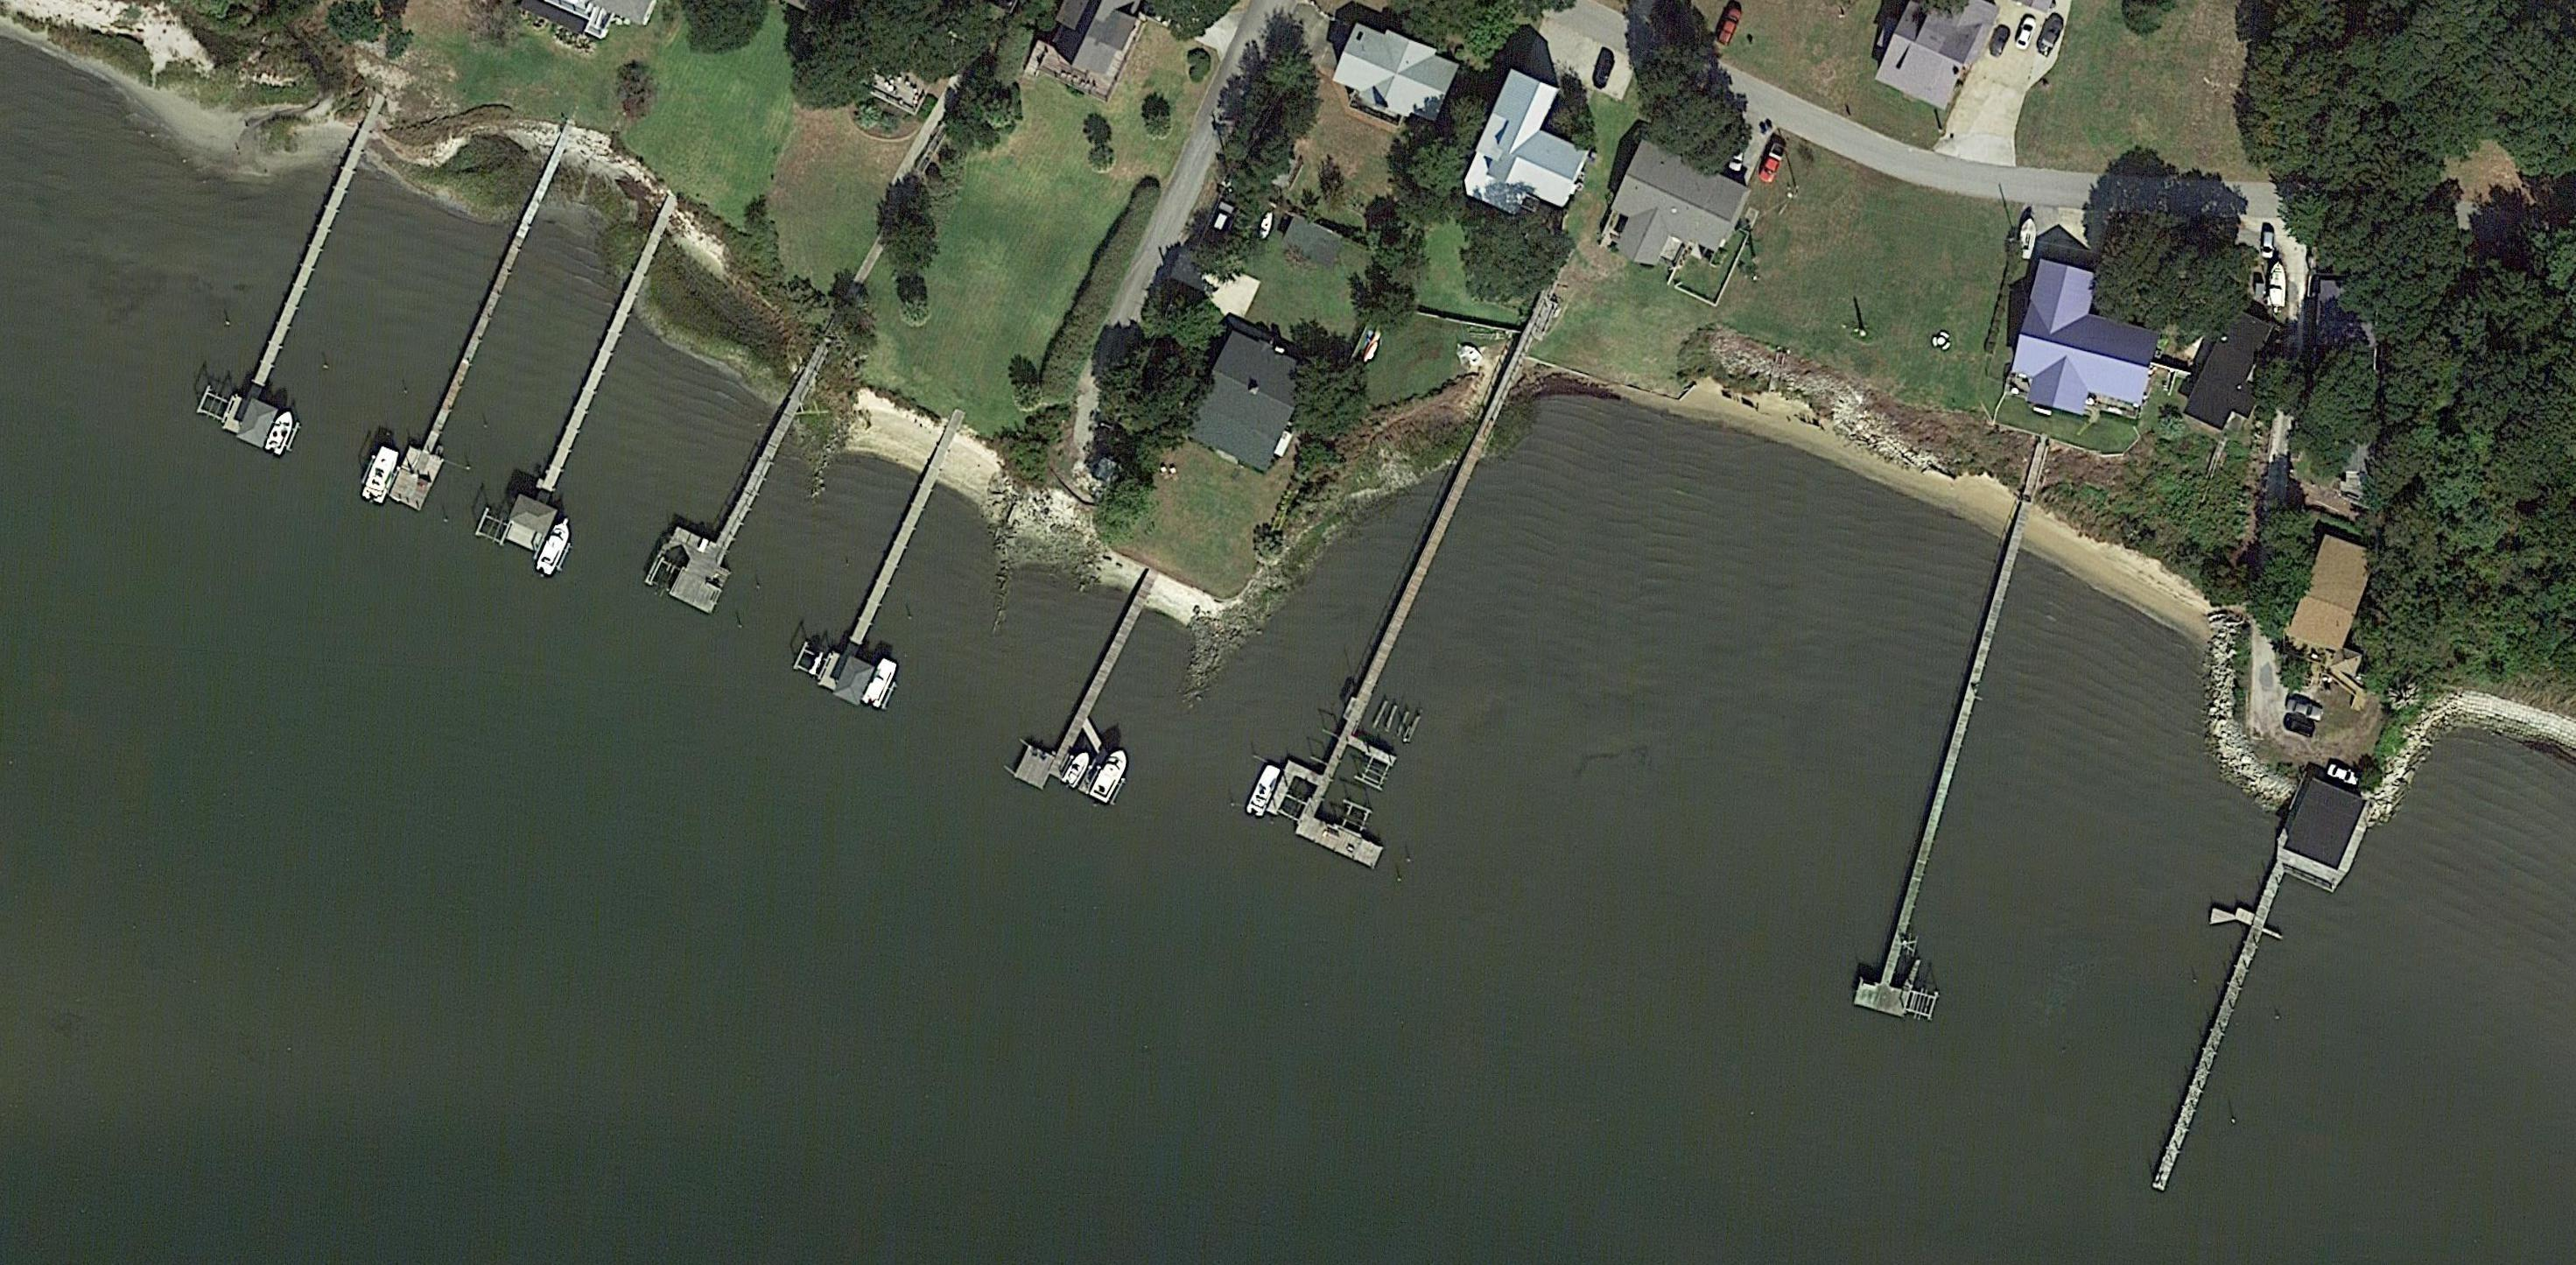harbor: (1258, 330, 1590, 872), (1853, 462, 2063, 1017), (384, 131, 582, 513), (197, 113, 396, 460), (2118, 844, 2307, 1201), (501, 199, 688, 555), (639, 317, 849, 618), (808, 419, 992, 708), (1010, 562, 1170, 800)
ship: (529, 514, 580, 580), (1086, 746, 1134, 807), (358, 444, 402, 506), (1244, 761, 1286, 820), (859, 655, 900, 711), (261, 407, 299, 460), (1061, 747, 1092, 792), (2016, 217, 2039, 261), (2267, 261, 2287, 310), (1257, 210, 1275, 241), (1462, 343, 1485, 366)
